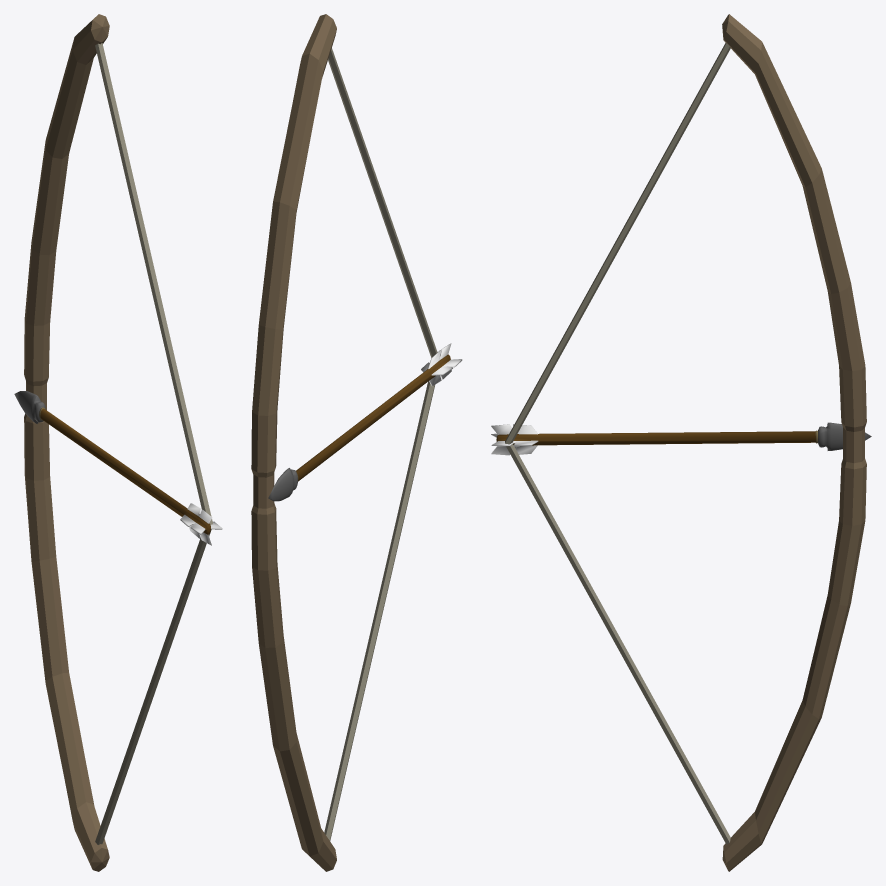
The model's file is Low-Poly_bow4.fbx.
3 views of the same model, side by side, from view 1: azimuth 30°, elevation 25°; view 2: azimuth 150°, elevation 25°; view 3: azimuth 270°, elevation 25° (orthographic).
Visible parts, largest first — view 1: Cylinder, Cylinder.001, Arrow; view 2: Cylinder, Cylinder.001, Arrow; view 3: Cylinder, Cylinder.001, Arrow.
Part boxes in pixels (x1,y1,x2,y2): Cylinder: (24,14,109,871); Cylinder.001: (95,43,212,844); Arrow: (14,391,222,545); Cylinder: (251,14,336,871); Cylinder.001: (324,48,437,840); Arrow: (268,343,462,501); Cylinder: (722,14,866,871); Cylinder.001: (505,43,730,844); Arrow: (491,422,871,455).
Bounding box in the file's own units: 10.34 × 278 × 112.
